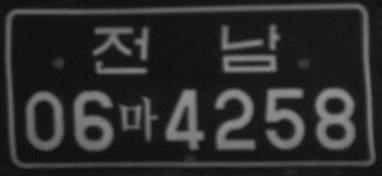0: (25, 89, 66, 152)
2: (213, 86, 257, 152)
4: (164, 87, 205, 150)
5: (264, 86, 307, 151)
6: (70, 89, 115, 153)
8: (313, 86, 357, 151)
마: (117, 95, 159, 142)
전남_D: (92, 24, 283, 75)
